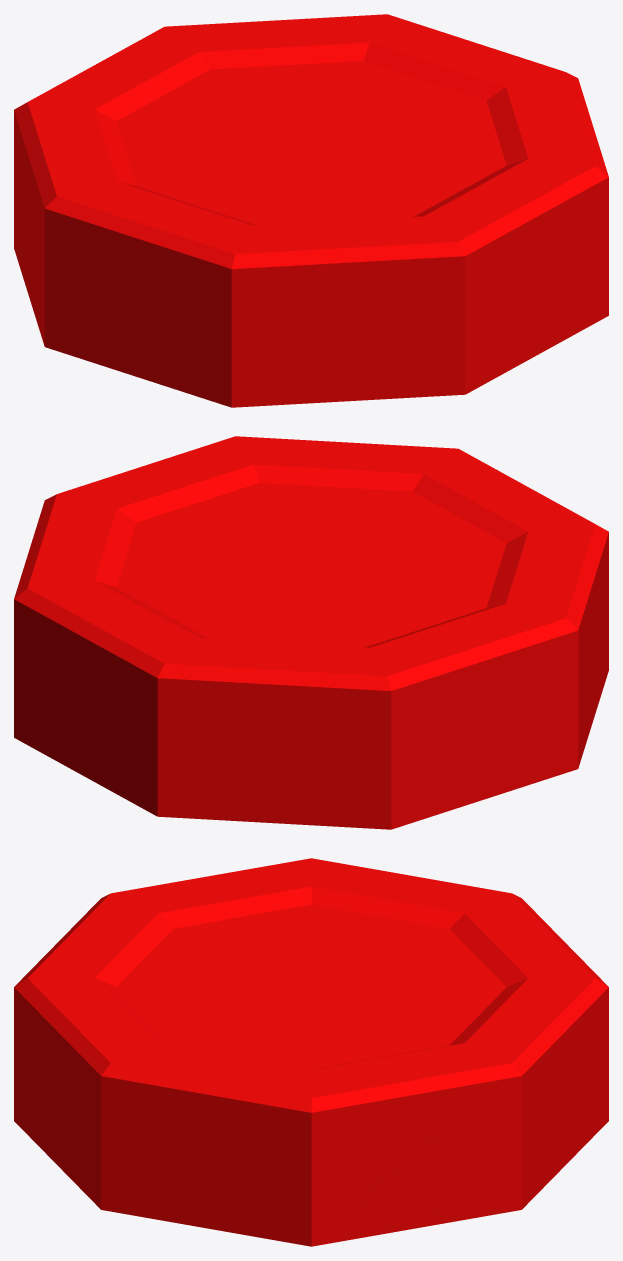
The picture shows the model from 3 angles, top to bottom: view 1: azimuth 30°, elevation 25°; view 2: azimuth 150°, elevation 25°; view 3: azimuth 270°, elevation 25°; orthographic projection. The views are drawn at different scales.
Parts seen in each view (by area): view 1: Base; view 2: Base; view 3: Base.
Boxes of the visible parts, left/top/right/bottom form: Base: left=14, top=14, right=608, bottom=407; Base: left=14, top=436, right=608, bottom=829; Base: left=14, top=858, right=608, bottom=1246.
Bounding box in the file's own units: 1.21 × 0.32 × 1.21.
